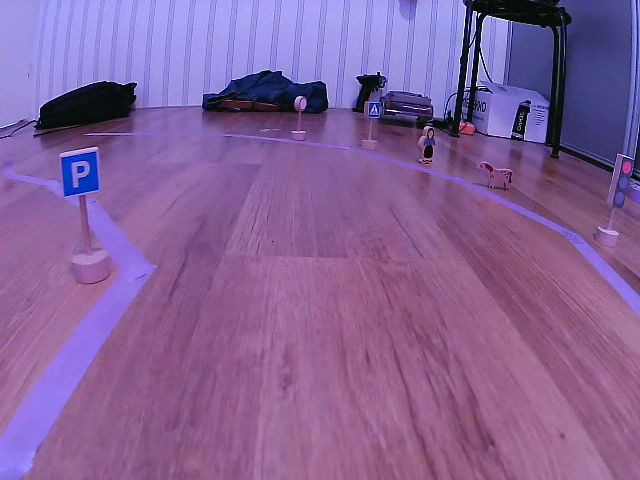mens: (417, 122, 436, 166)
paard: (477, 161, 516, 194)
parkeerbord: (58, 150, 102, 196)
roodlicht: (609, 152, 634, 207)
zebrapad: (367, 101, 382, 119)
